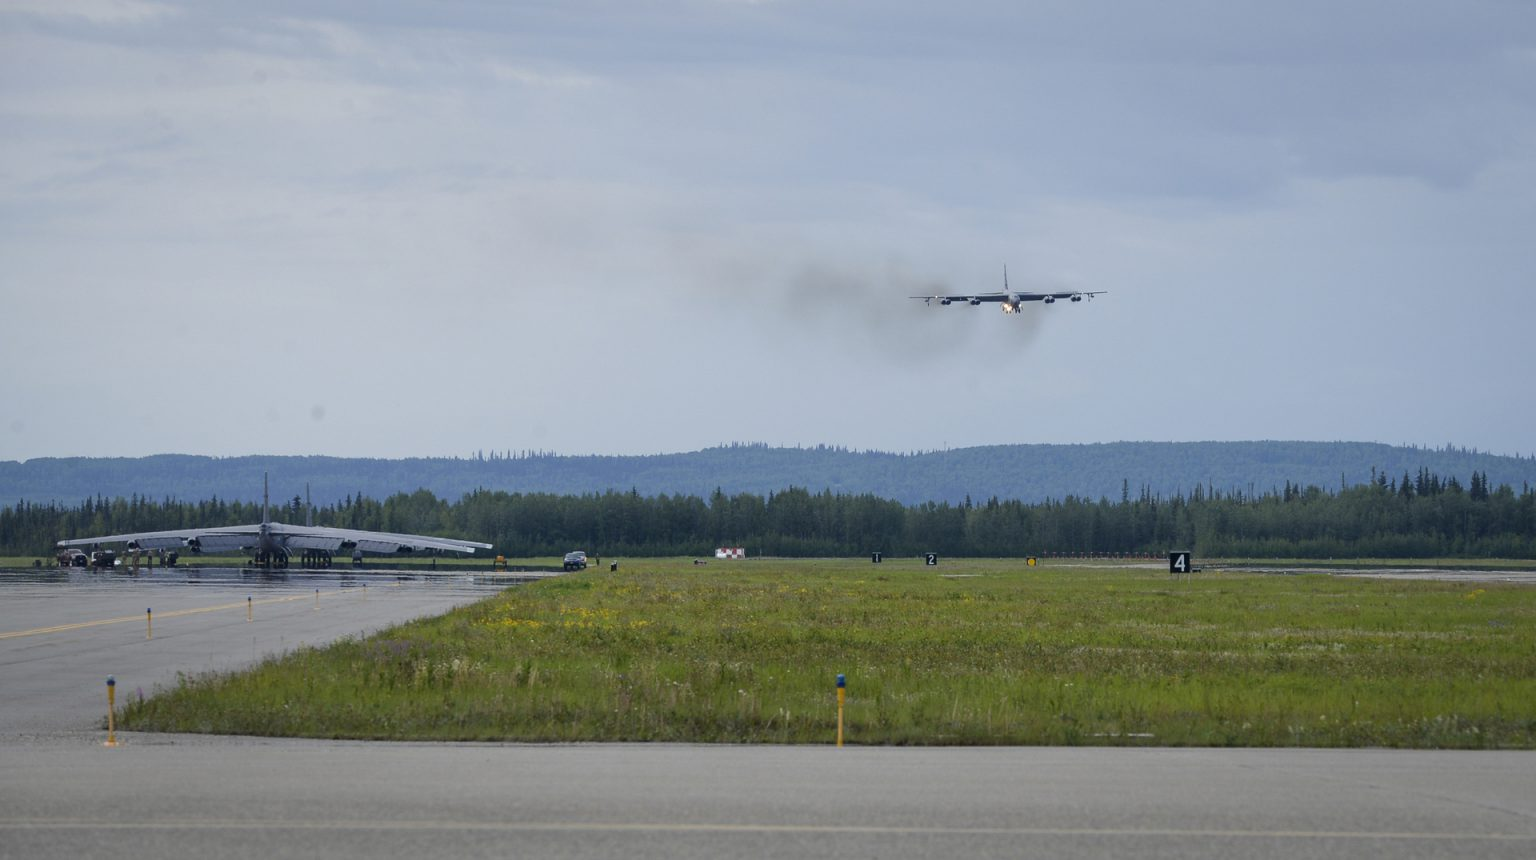B52: (57, 470, 476, 568), (127, 481, 494, 567), (907, 263, 1109, 314)
